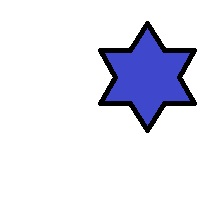star: (97, 21, 198, 133)
